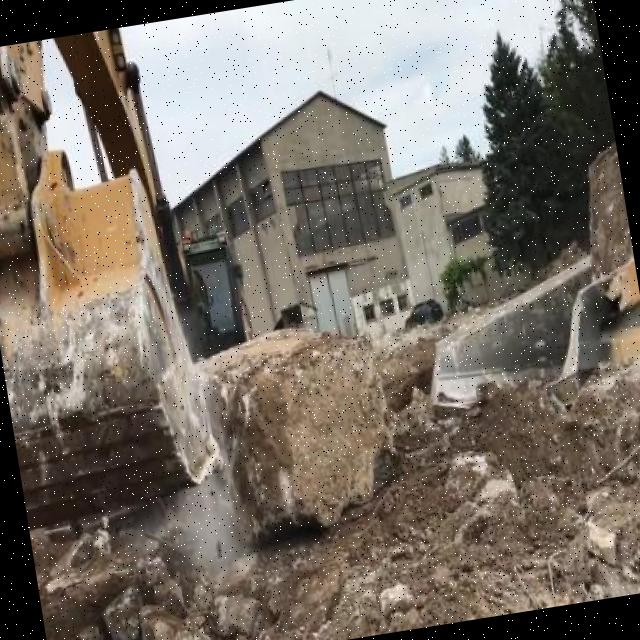Dump Truck: (401, 221, 640, 412)
Excavator: (0, 15, 277, 533)
